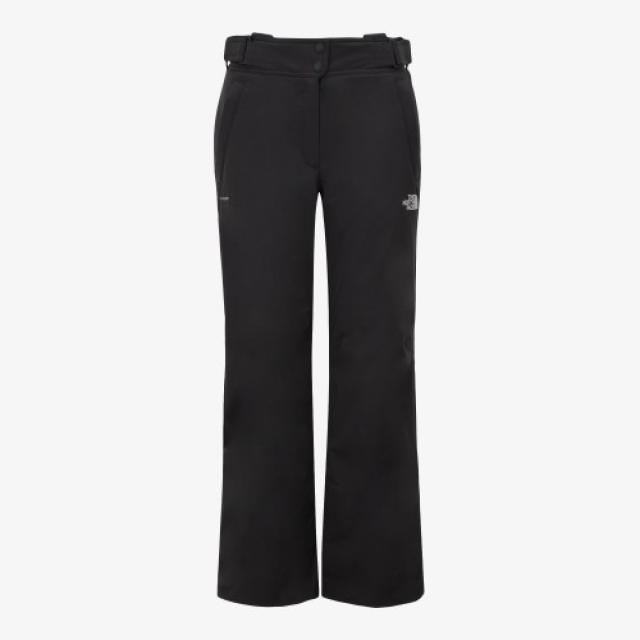pants: (212, 31, 428, 606)
